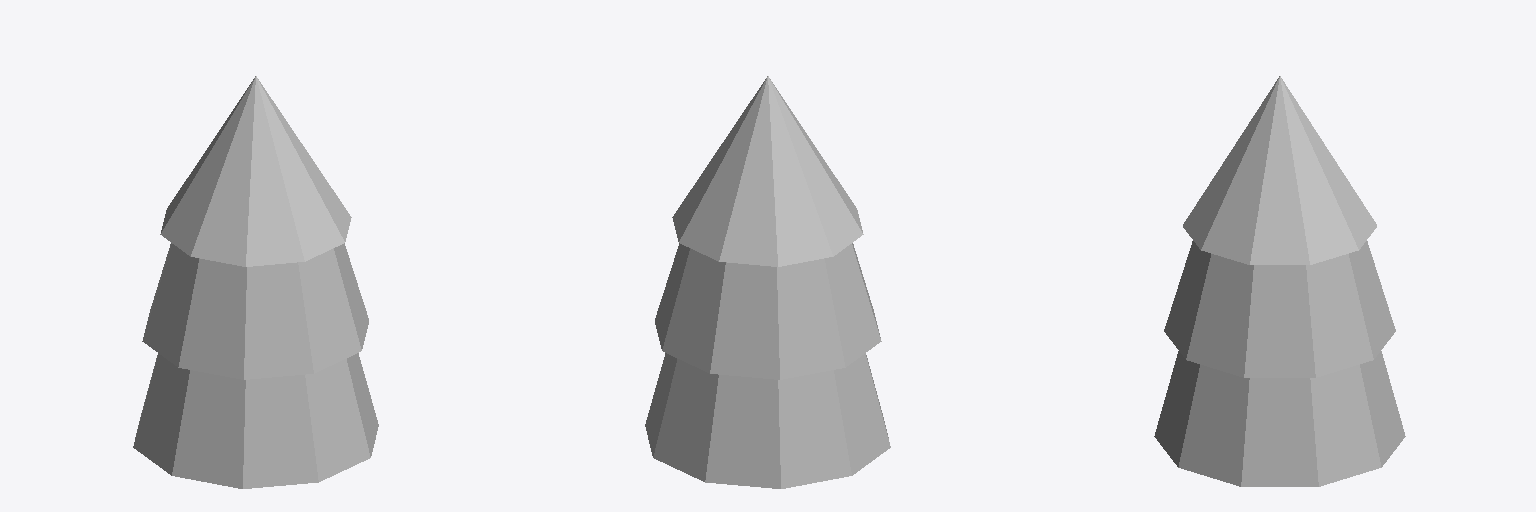
Rendered from tree new.obj.
3 renders of one model, left to right at view 1: azimuth 30°, elevation 25°; view 2: azimuth 150°, elevation 25°; view 3: azimuth 270°, elevation 25°, orthographic.
Parts seen in each view (by area): view 1: Cylinder, Cylinder.001, Cone; view 2: Cylinder, Cylinder.001, Cone; view 3: Cylinder, Cylinder.001, Cone.
Part boxes in pixels (x1,y1,x2,y2): Cylinder: (133, 353, 378, 488); Cylinder.001: (142, 243, 368, 379); Cone: (160, 76, 351, 266); Cylinder: (645, 353, 890, 488); Cylinder.001: (655, 243, 881, 379); Cone: (672, 76, 863, 266); Cylinder: (1154, 351, 1405, 486); Cylinder.001: (1164, 241, 1395, 377); Cone: (1183, 76, 1376, 264).
Bounding box in the file's own units: 2.06 × 3.43 × 2.17.